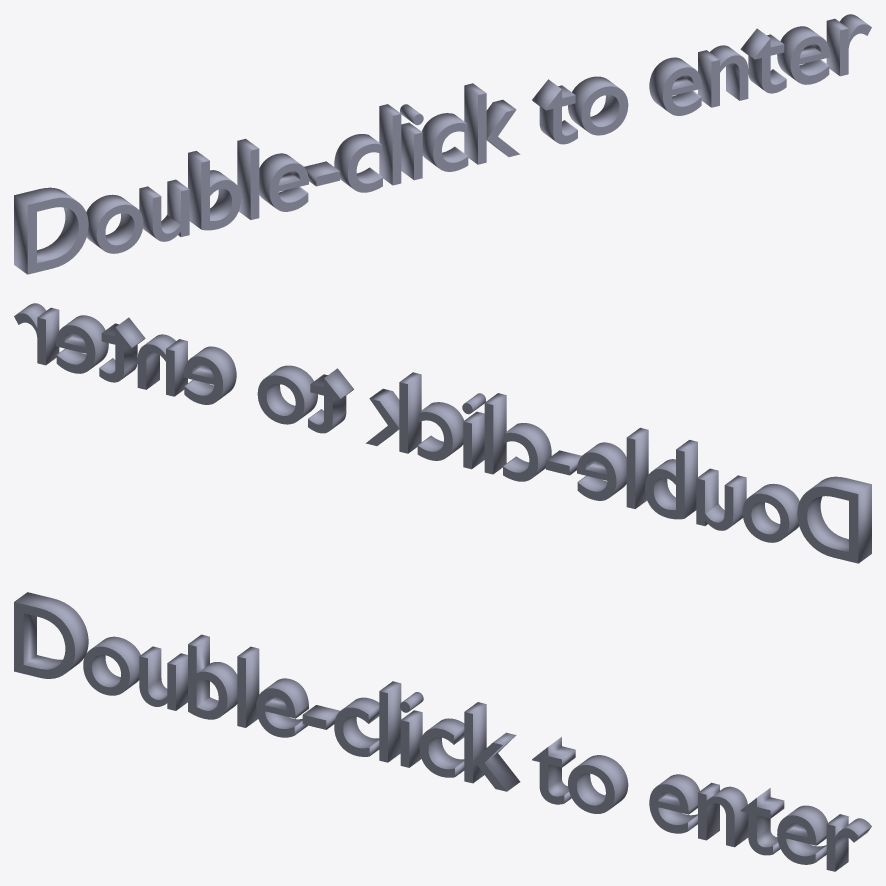
File: doubleclick.glb
3 renders of one model, top to bottom at view 1: azimuth 30°, elevation 25°; view 2: azimuth 150°, elevation 25°; view 3: azimuth 330°, elevation 25°, orthographic.
Parts seen in each view (by area): view 1: Double click; view 2: Double click; view 3: Double click.
Boxes of the visible parts, x1=… form: Double click: x1=14, y1=14, x2=871, y2=274; Double click: x1=14, y1=303, x2=871, y2=563; Double click: x1=14, y1=592, x2=871, y2=871.
Bounding box in the file's own units: 8.67 × 0.6911 × 0.2402.
